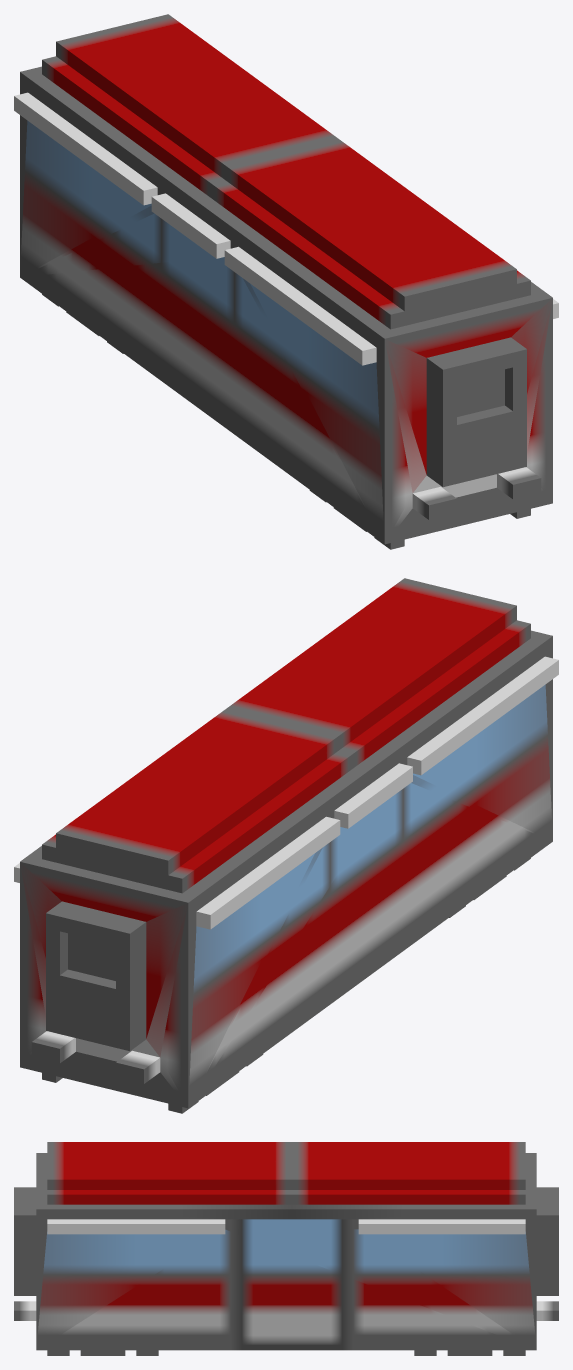
File: veh_train.dae
3 renders of one model, top to bottom at view 1: azimuth 30°, elevation 25°; view 2: azimuth 150°, elevation 25°; view 3: azimuth 270°, elevation 25°, orthographic. The views are drawn at different scales.
Visible parts, largest first — view 1: veh_train; view 2: veh_train; view 3: veh_train.
Part boxes in pixels (x1,y1,x2,y2): veh_train: [14, 14, 558, 549]; veh_train: [14, 578, 558, 1113]; veh_train: [14, 1142, 558, 1355].
Size of the model in its own units: 1.4 by 4.9 by 1.7.
Materials: 1 (1 with a texture image).
